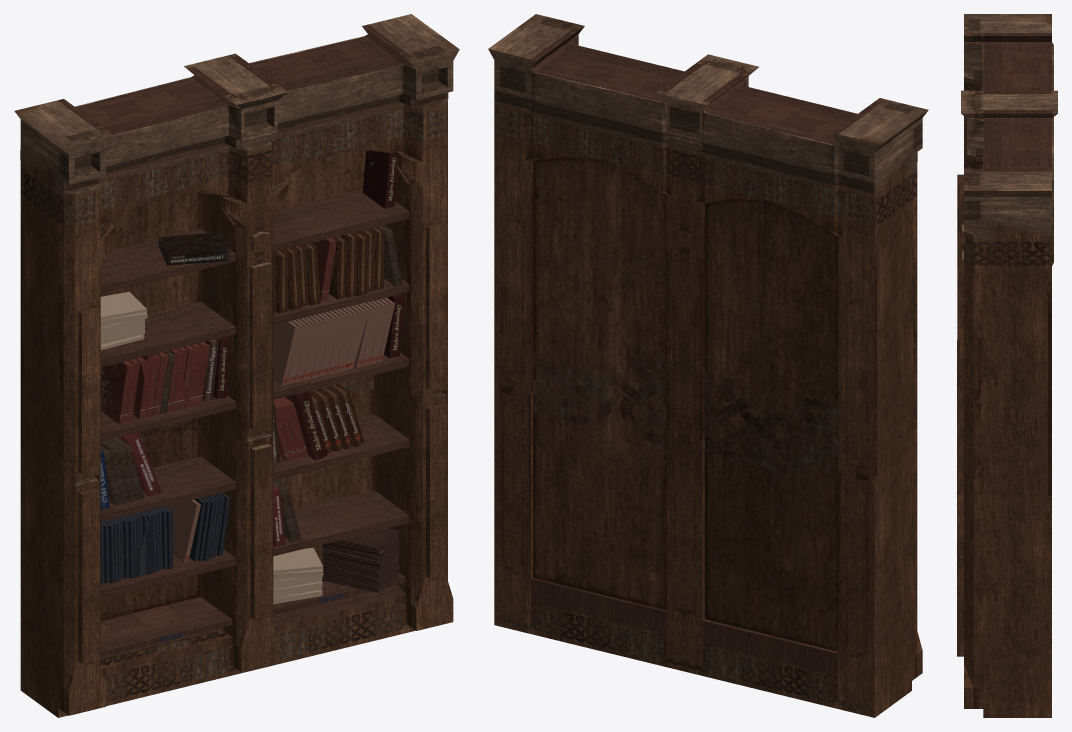
The model's file is IIM5XN727HTE2M4RVUGTGRDWY.gltf.
The picture shows the model from 3 angles, left to right: view 1: azimuth 30°, elevation 25°; view 2: azimuth 150°, elevation 25°; view 3: azimuth 270°, elevation 25°; orthographic projection. The views are drawn at different scales.
Bounding box in the file's own units: 1.79 × 2.5 × 0.4313.
Materials: 1 (1 with a texture image).
